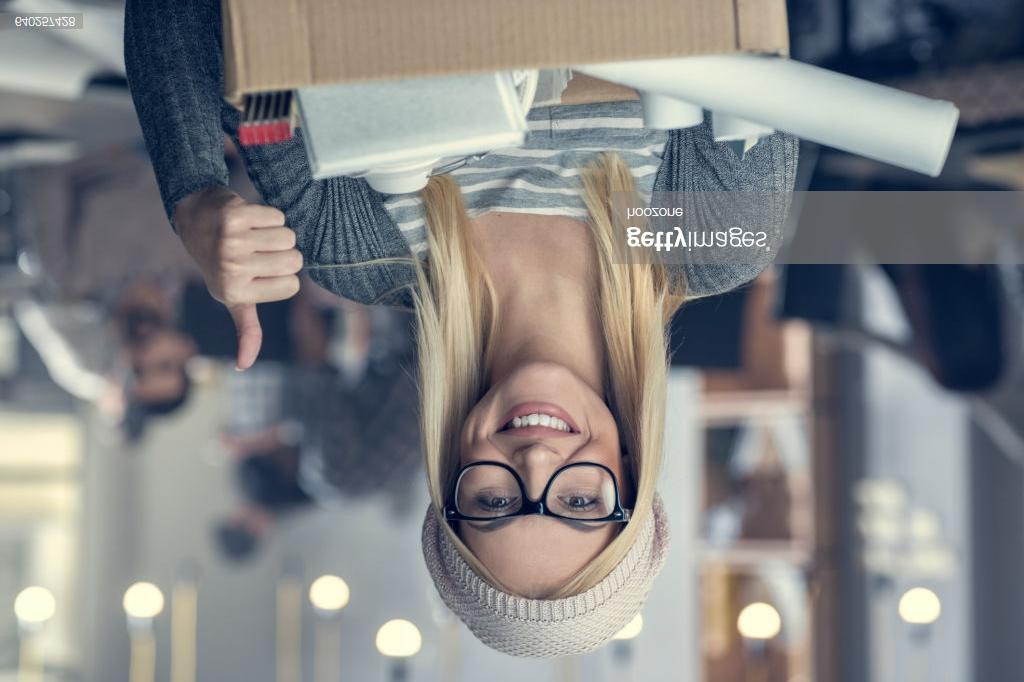thumbsdown: (211, 204, 304, 373)
